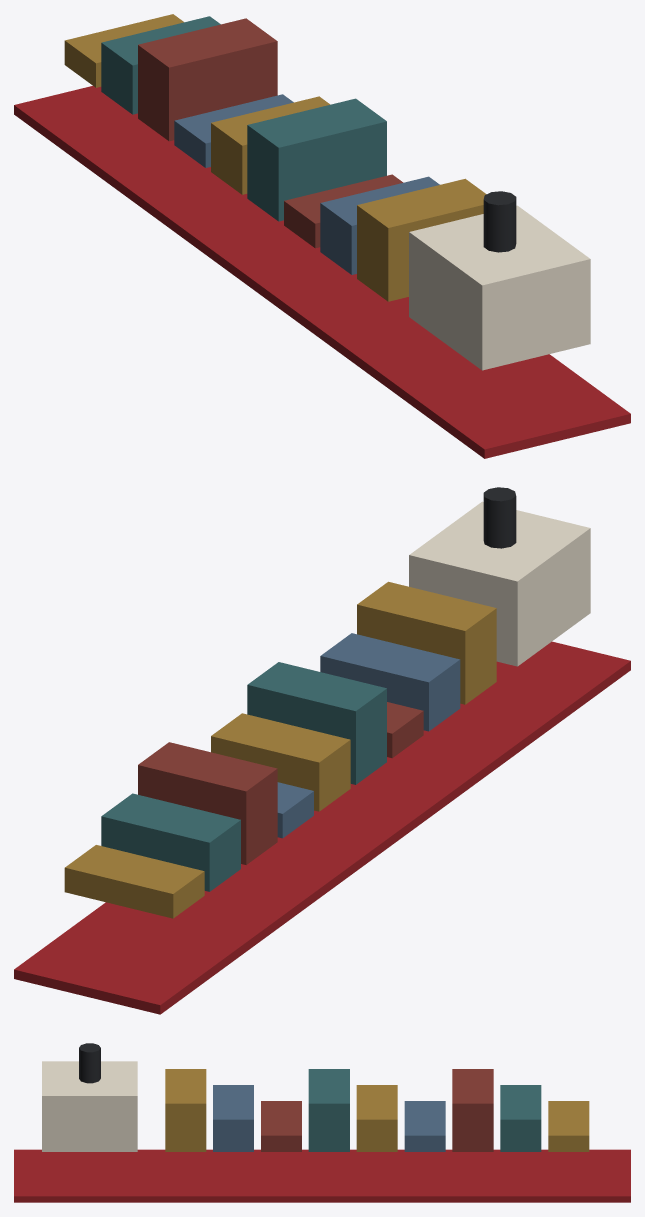
Rendered from theme-port-3.glb.
The picture shows the model from 3 angles, top to bottom: view 1: azimuth 30°, elevation 25°; view 2: azimuth 150°, elevation 25°; view 3: azimuth 270°, elevation 25°; orthographic projection. The views are drawn at different scales.
Visible parts, largest first — view 1: 04_#a3262c_noshadow, 05_#e8e0d0, 01_#3f6f73, 02_#8a4038, 00_#a8843c, 03_#55708a, 06_#2a2c30; view 2: 04_#a3262c_noshadow, 00_#a8843c, 01_#3f6f73, 05_#e8e0d0, 02_#8a4038, 03_#55708a, 06_#2a2c30; view 3: 04_#a3262c_noshadow, 00_#a8843c, 05_#e8e0d0, 01_#3f6f73, 02_#8a4038, 03_#55708a, 06_#2a2c30.
Boxes of the visible parts, x1,y1,x2,y2 form: 04_#a3262c_noshadow: [14, 86, 630, 458]; 05_#e8e0d0: [409, 205, 590, 370]; 01_#3f6f73: [101, 16, 386, 221]; 02_#8a4038: [138, 18, 403, 248]; 00_#a8843c: [64, 14, 486, 301]; 03_#55708a: [174, 94, 439, 274]; 06_#2a2c30: [483, 191, 516, 252]; 04_#a3262c_noshadow: [14, 641, 630, 1014]; 00_#a8843c: [64, 581, 496, 918]; 01_#3f6f73: [101, 662, 386, 891]; 05_#e8e0d0: [409, 501, 590, 666]; 02_#8a4038: [138, 702, 423, 864]; 03_#55708a: [277, 633, 460, 838]; 06_#2a2c30: [483, 487, 516, 548]; 04_#a3262c_noshadow: [14, 1149, 630, 1202]; 00_#a8843c: [165, 1069, 589, 1151]; 05_#e8e0d0: [42, 1061, 137, 1151]; 01_#3f6f73: [308, 1069, 541, 1151]; 02_#8a4038: [261, 1069, 493, 1151]; 03_#55708a: [213, 1085, 445, 1151]; 06_#2a2c30: [79, 1043, 100, 1083].
Size of the model in its own units: 16.2 by 21.2 by 90.2.
